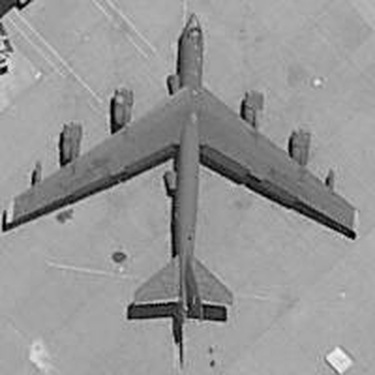airplane: (8, 10, 367, 347)
